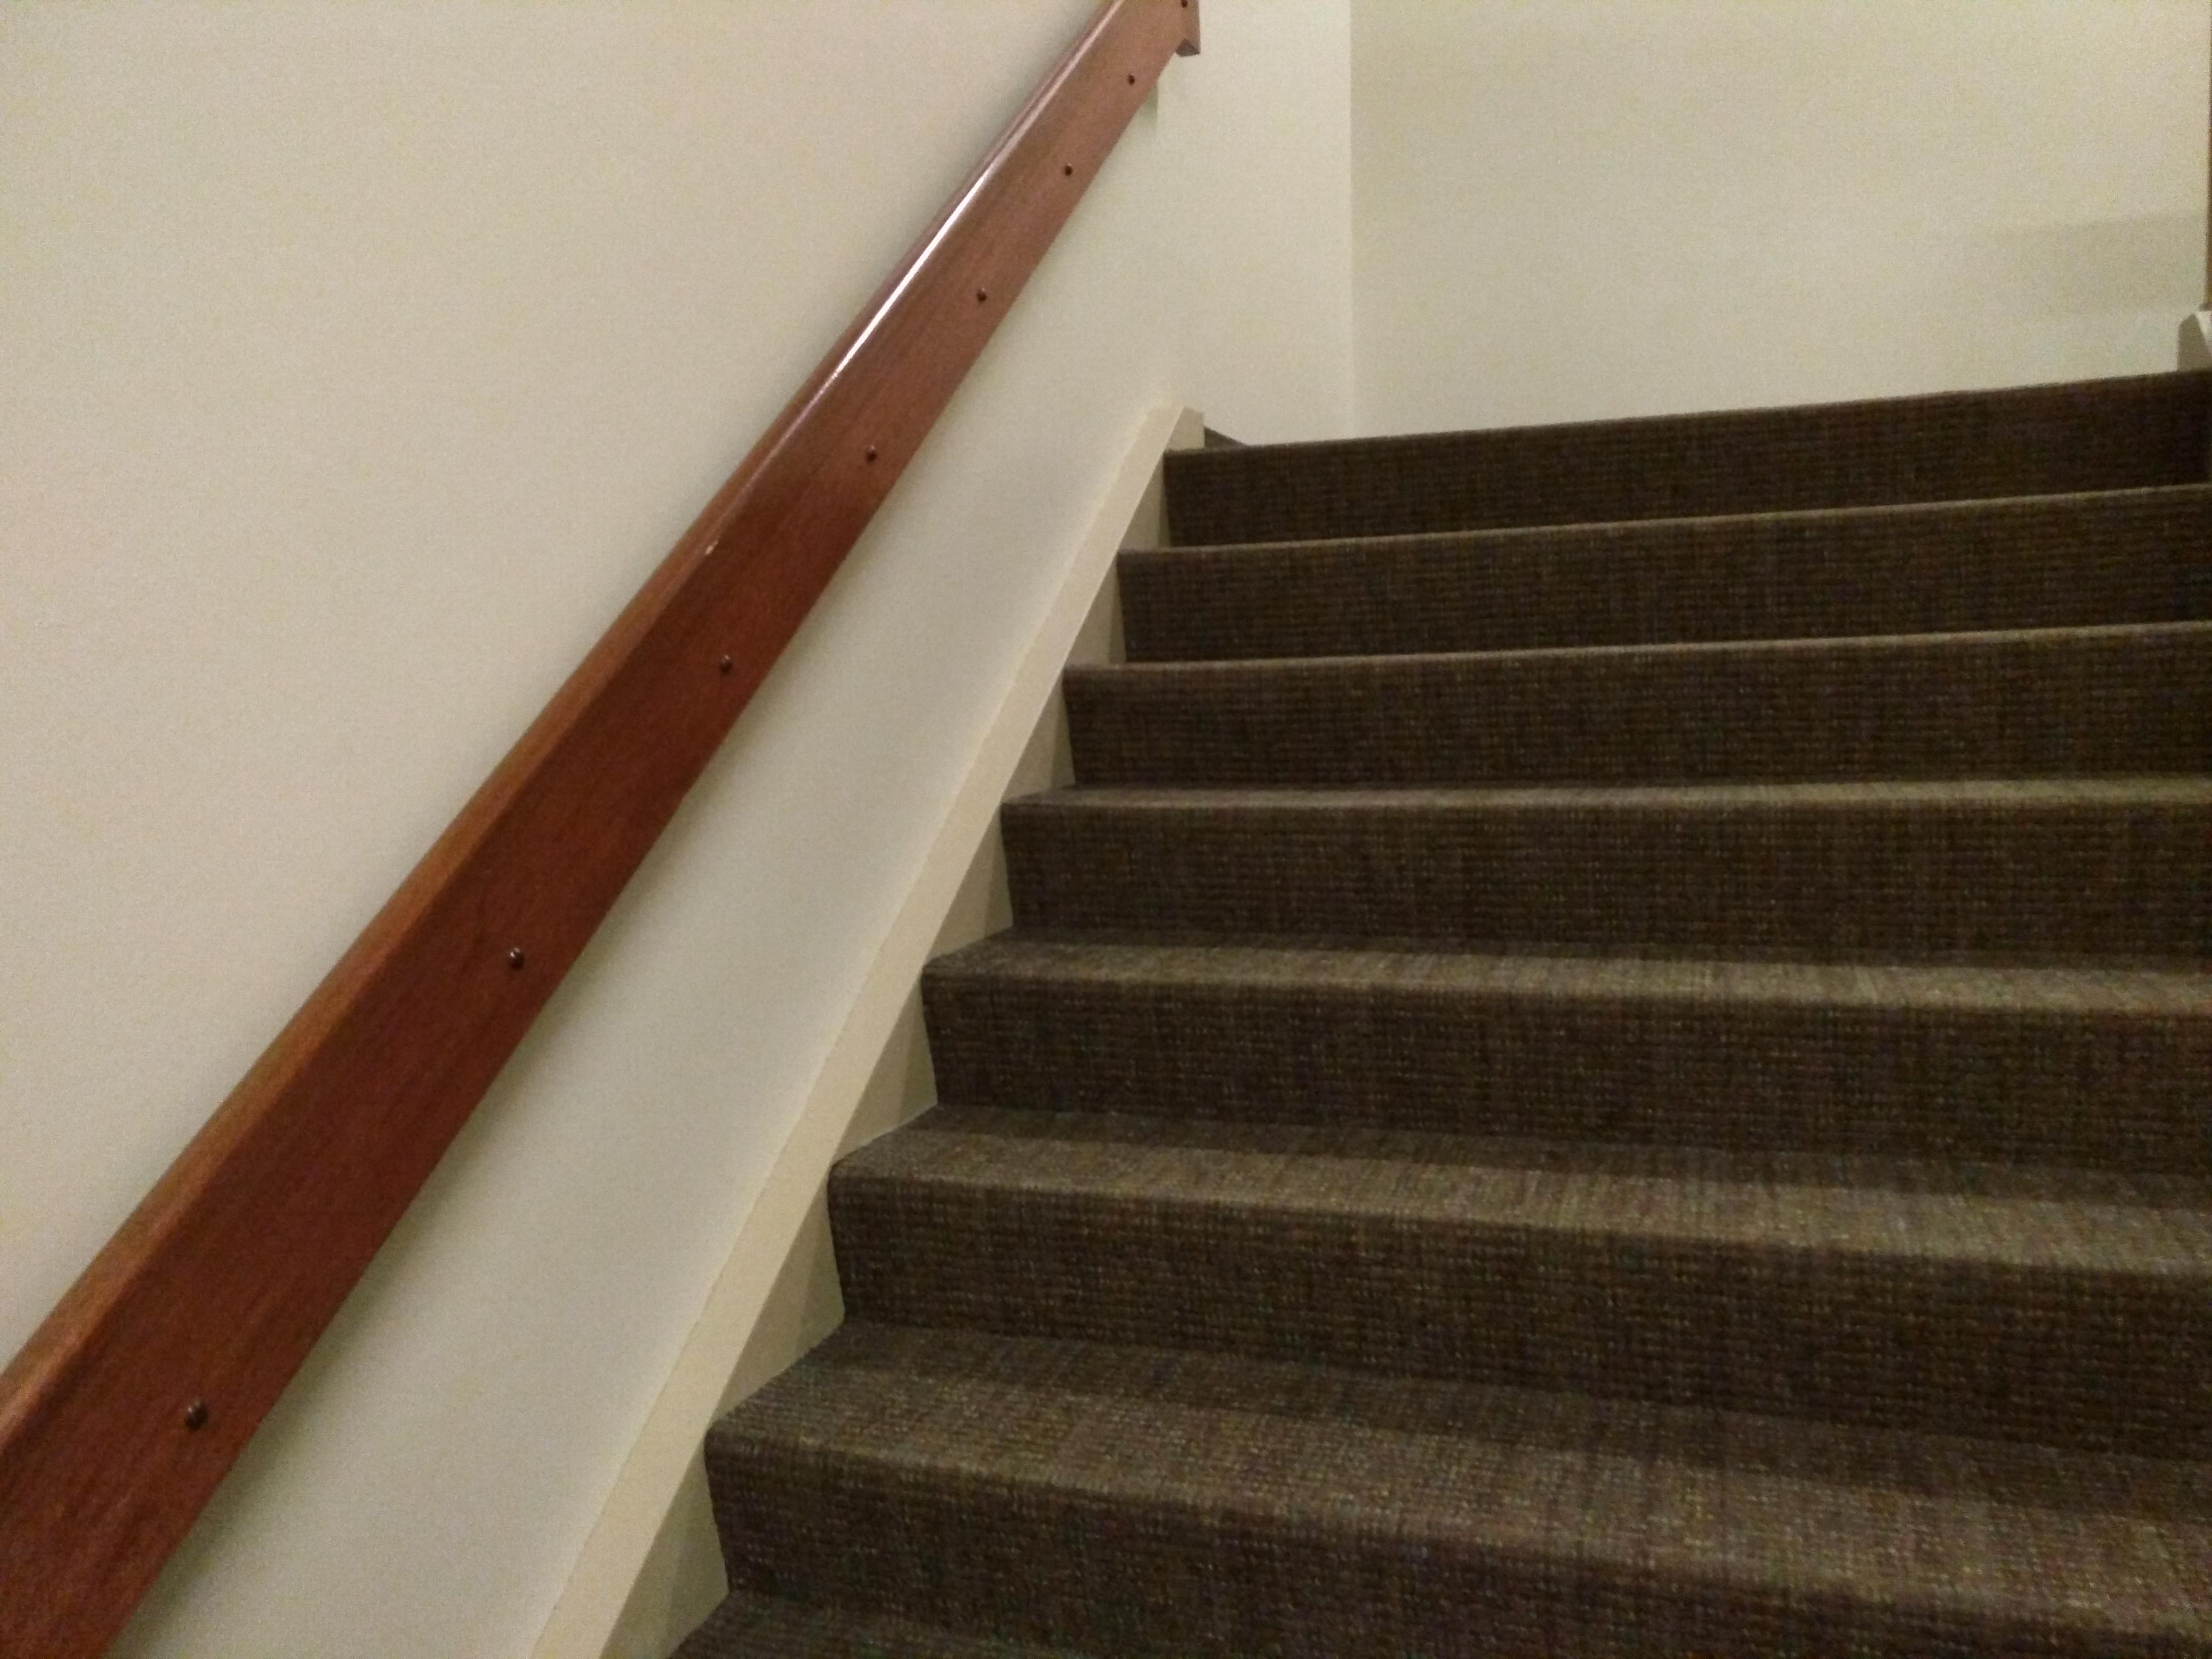stairs_up: (604, 390, 2212, 1659)
